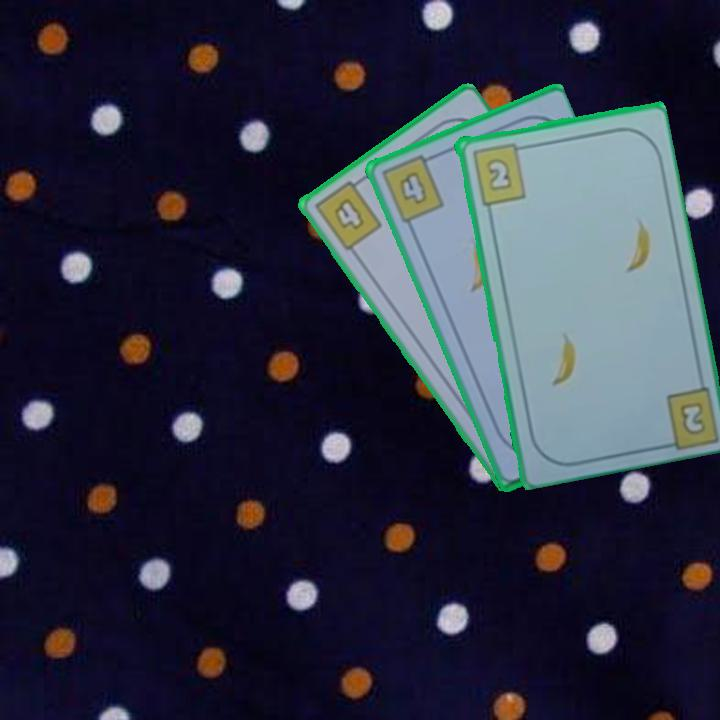2b: (468, 139, 530, 208), (675, 398, 709, 438)
4b: (310, 173, 385, 254), (377, 150, 447, 226)
